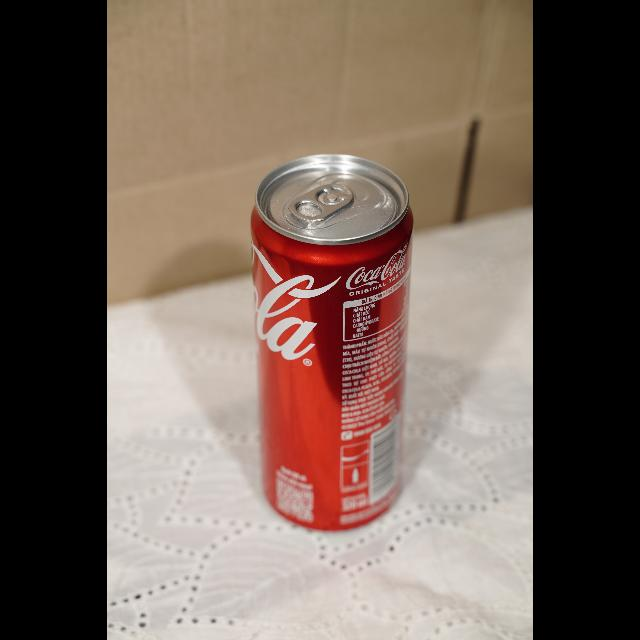coca_cola: (248, 150, 414, 528)
